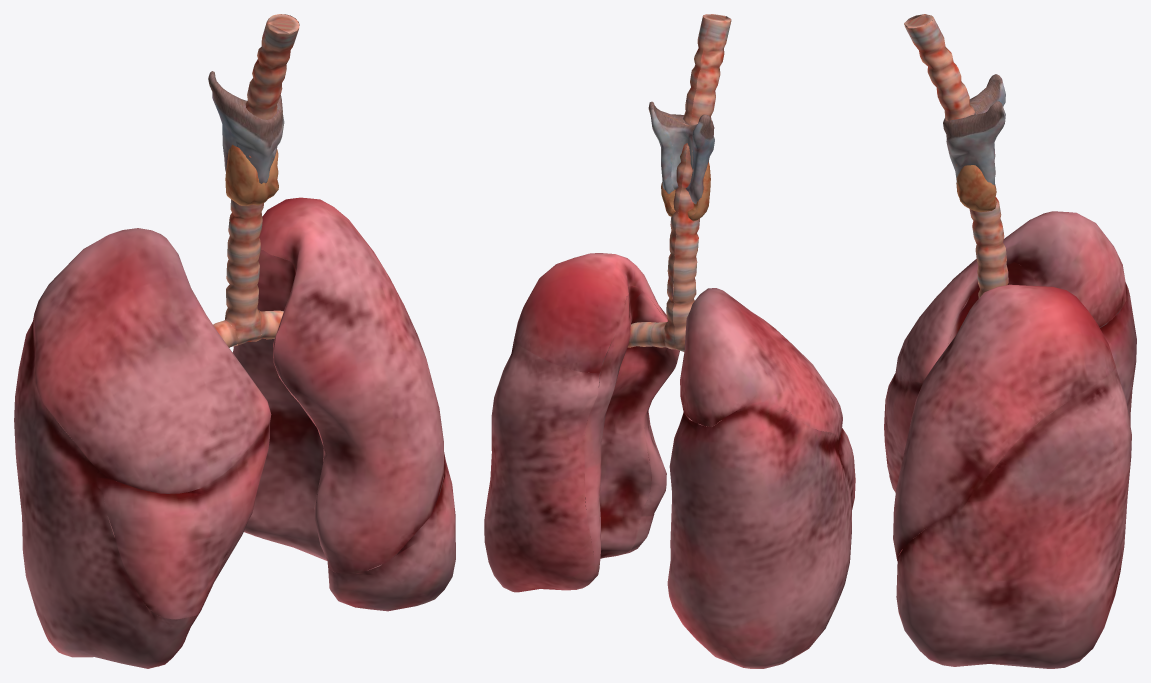
File: lungs.glb
3 views of the same model, side by side, from view 1: azimuth 30°, elevation 25°; view 2: azimuth 150°, elevation 25°; view 3: azimuth 270°, elevation 25° (orthographic). The views are drawn at different scales.
Parts seen in each view (by area): view 1: Lungs; view 2: Lungs; view 3: Lungs.
Boxes of the visible parts, x1,y1,x2,y2 form: Lungs: [14, 14, 455, 668]; Lungs: [484, 14, 855, 668]; Lungs: [884, 14, 1136, 668].
Size of the model in its own units: 0.1573 by 0.2601 by 0.1004.
Materials: 2 (2 with a texture image).
